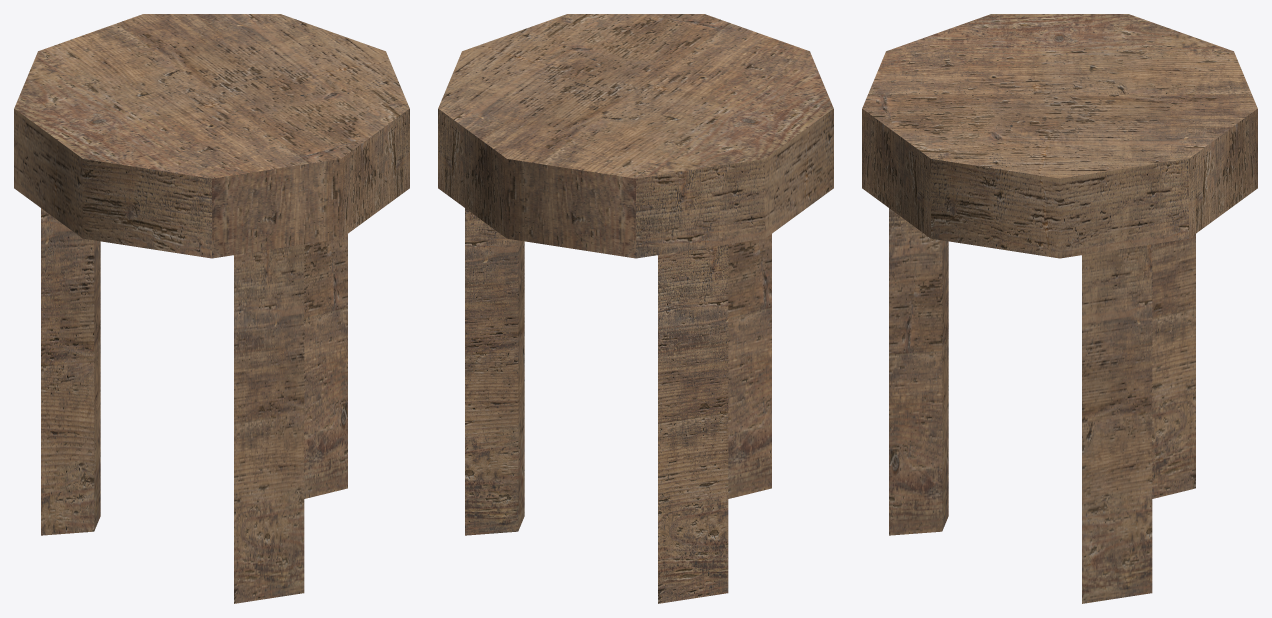
The model's file is stool.FBX.
3 renders of one model, left to right at view 1: azimuth 30°, elevation 25°; view 2: azimuth 150°, elevation 25°; view 3: azimuth 270°, elevation 25°, orthographic.
Visible parts, largest first — view 1: Cylinder001; view 2: Cylinder001; view 3: Cylinder001.
Part boxes in pixels (box(x1,y1,x2,y2)): Cylinder001: box(14, 14, 409, 603); Cylinder001: box(438, 14, 833, 603); Cylinder001: box(862, 14, 1257, 603).
Bounding box in the file's own units: 0.4539 × 0.5636 × 0.4609.
Materials: 1 (1 with a texture image).
